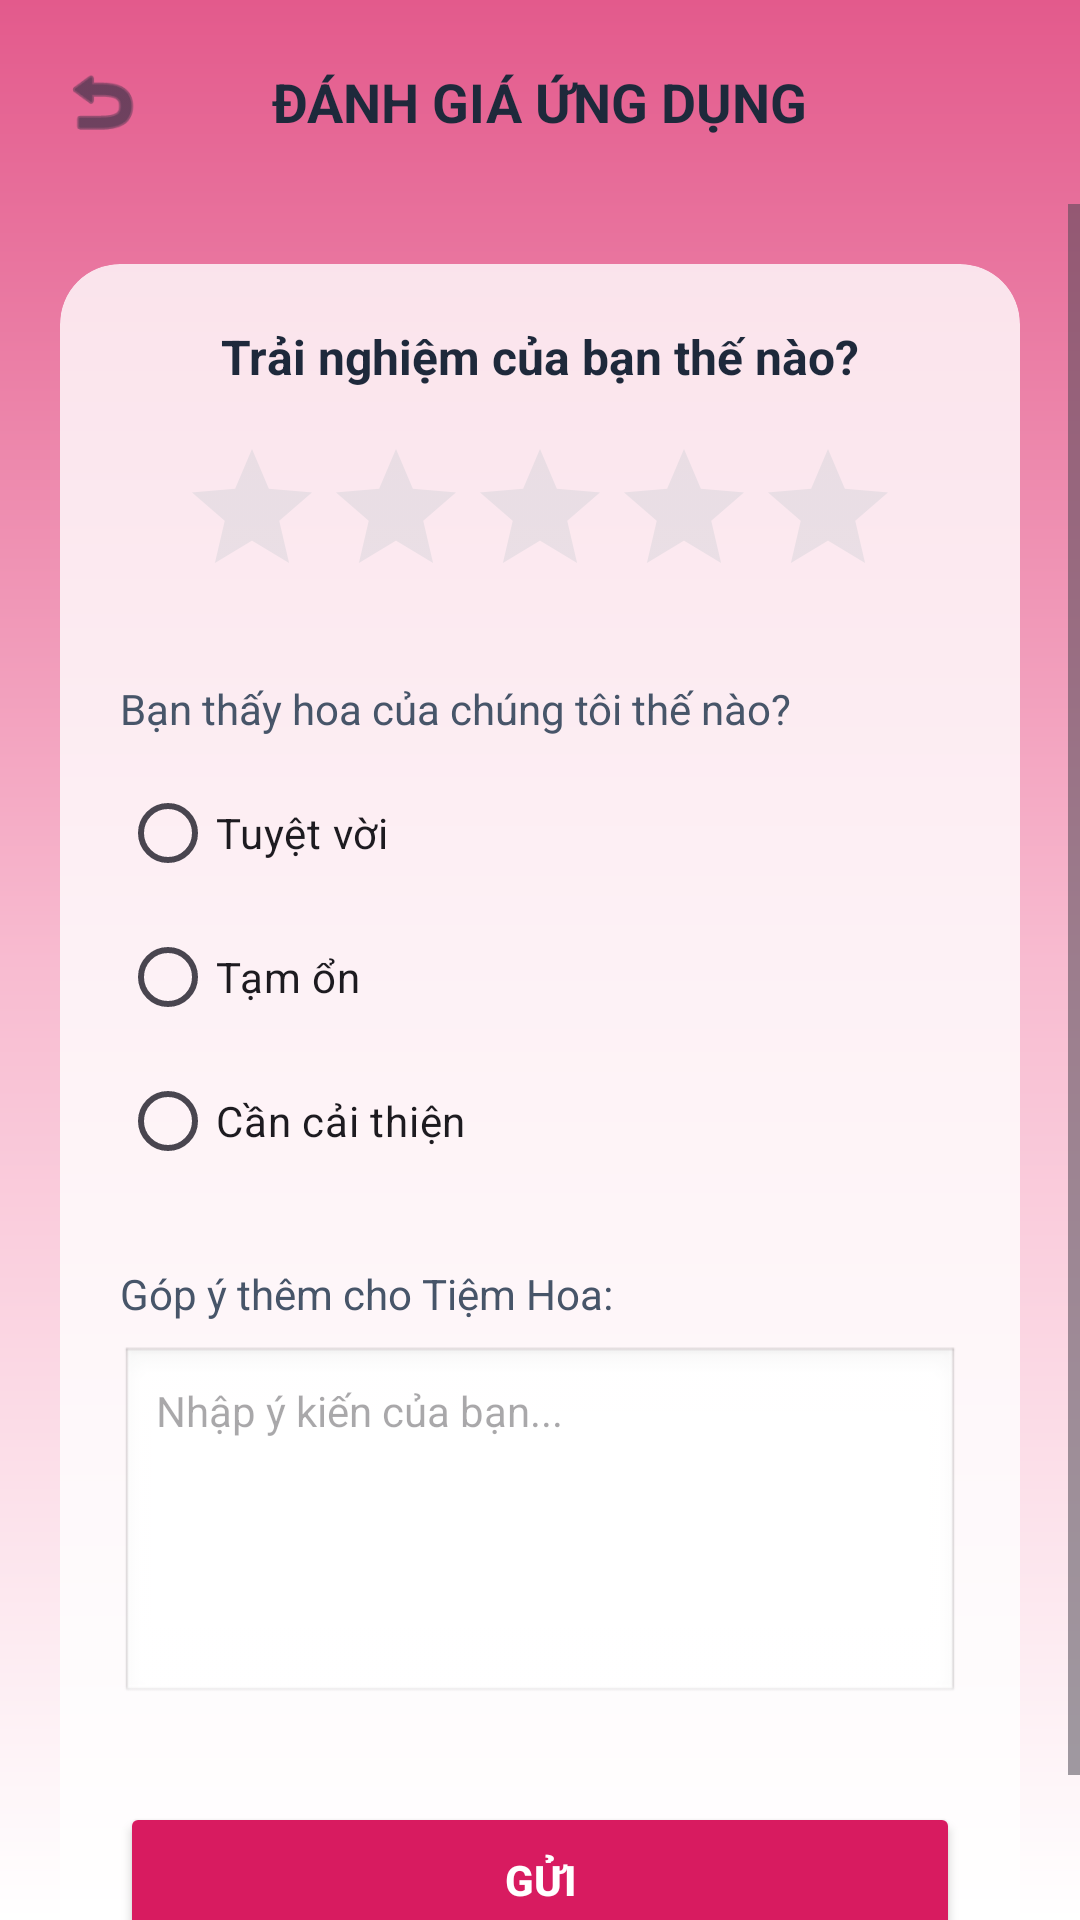

Icon bounding boxes for this 1080x1920 phone screenshot, format (x1, y1, x2, y2):
revert: (73, 75, 133, 130)
